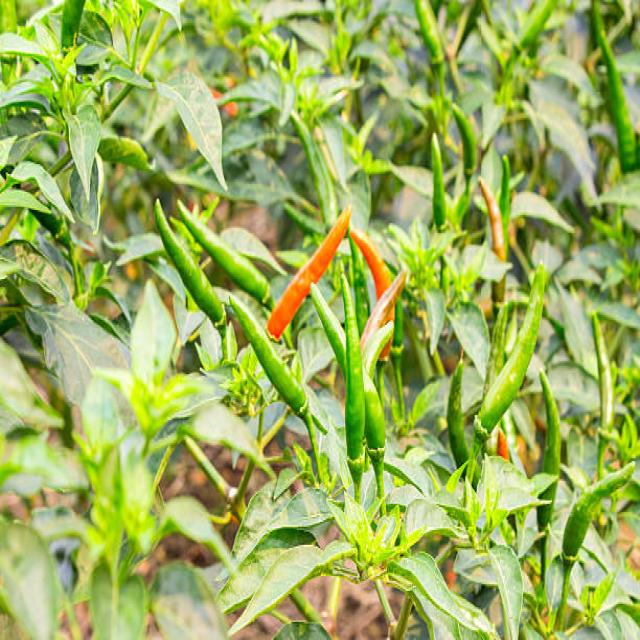Ripe: (268, 204, 351, 339), (350, 228, 391, 299)
Unripe: (468, 265, 545, 480), (230, 294, 320, 476), (178, 201, 271, 305), (155, 200, 224, 332), (562, 463, 634, 556), (342, 275, 365, 501), (311, 284, 349, 376), (539, 371, 560, 532), (448, 357, 470, 466), (363, 367, 385, 472), (432, 133, 446, 230)
